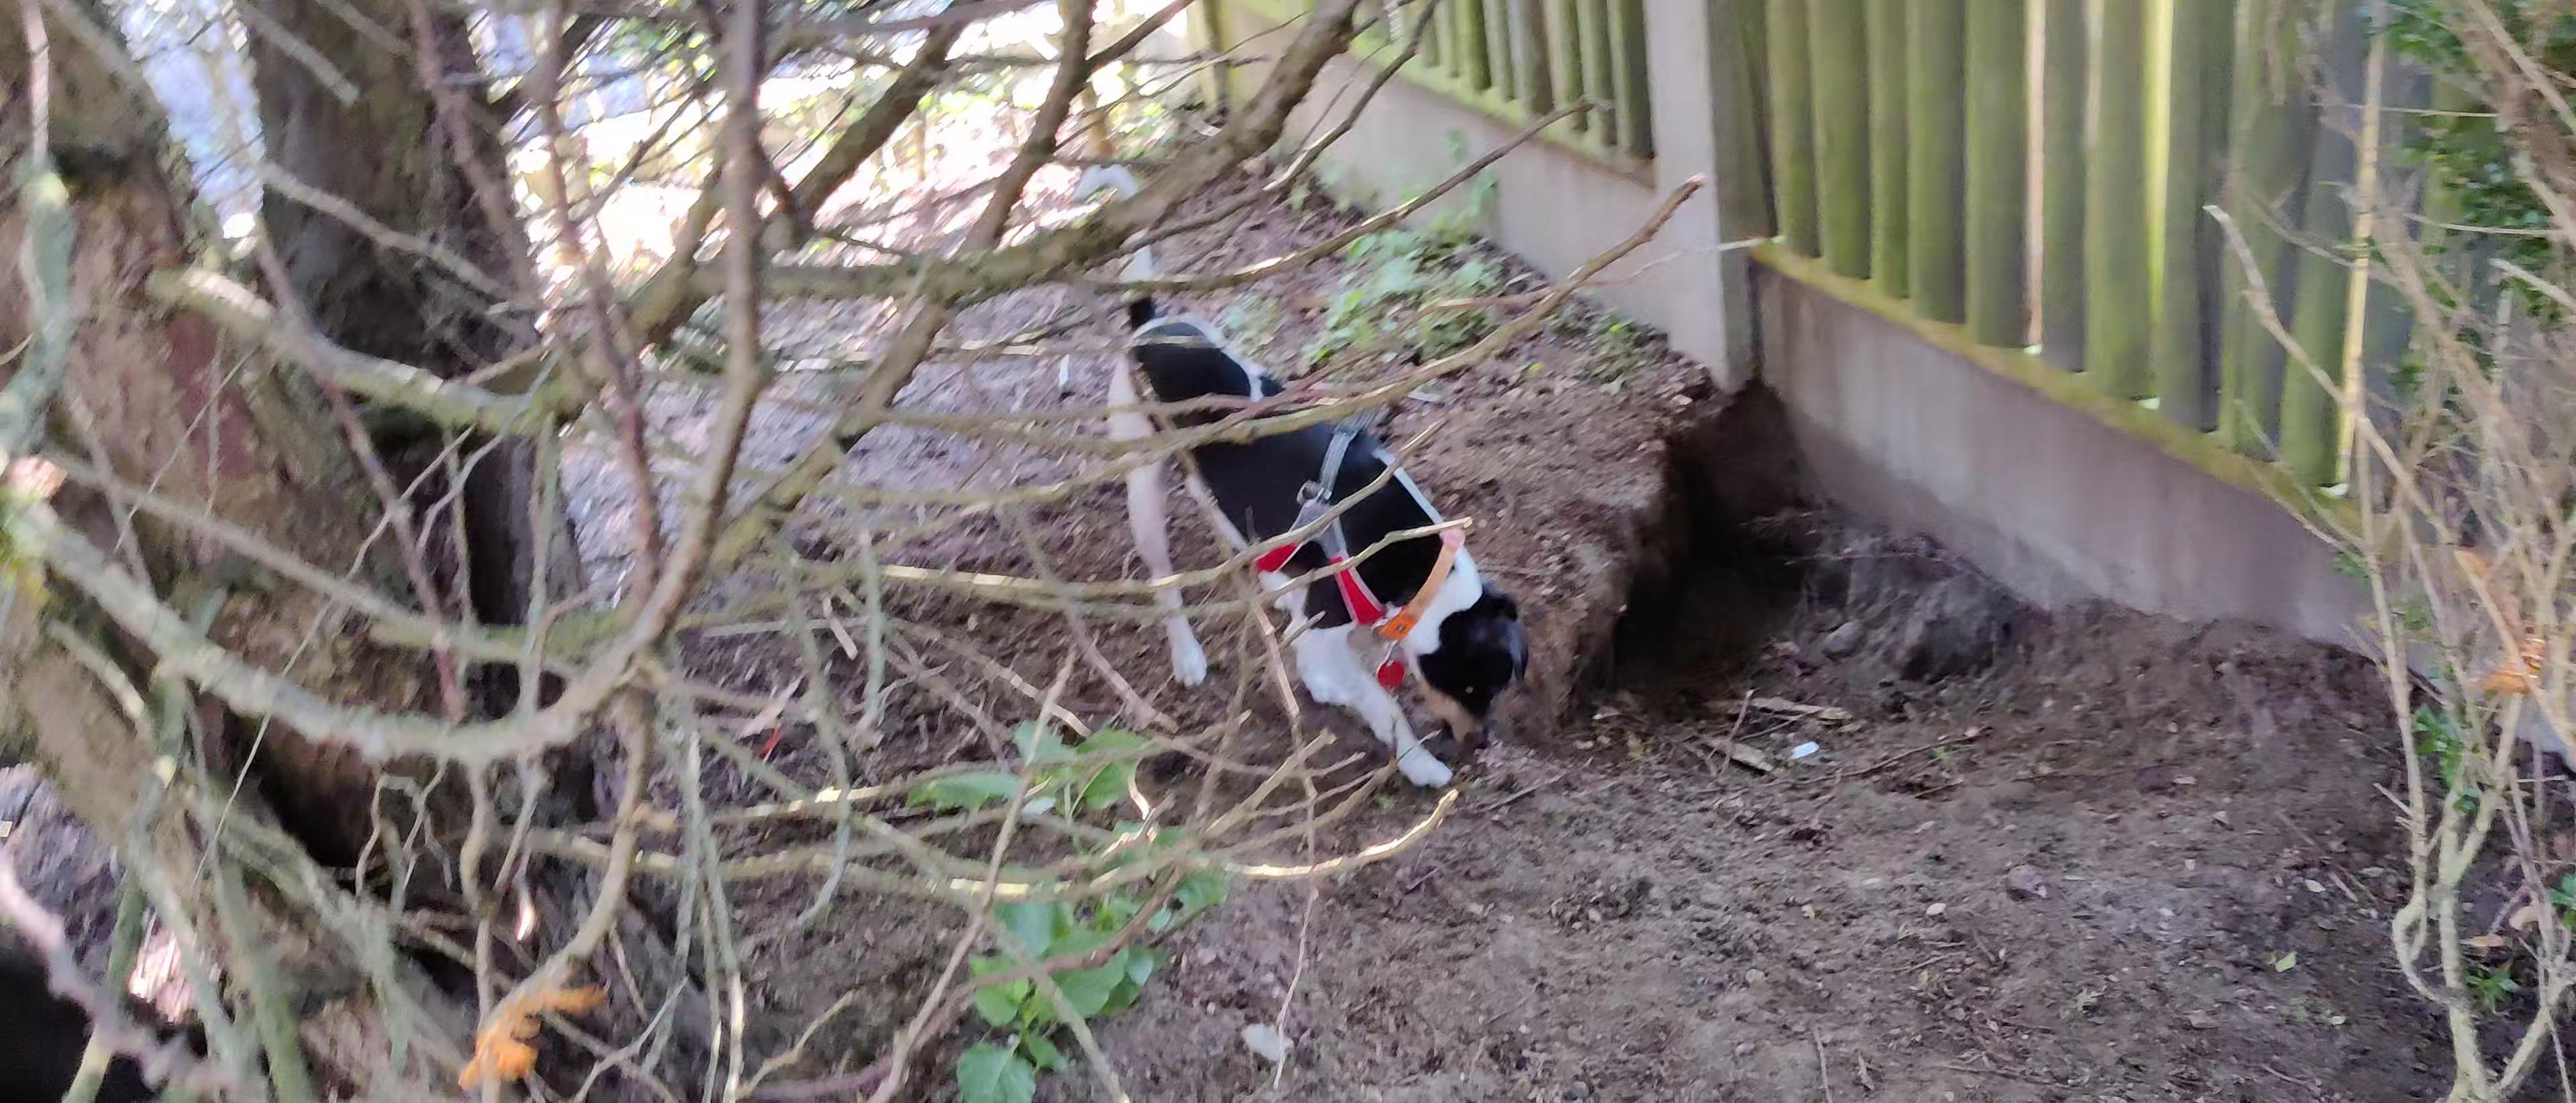Dog: (1051, 135, 1541, 804)
